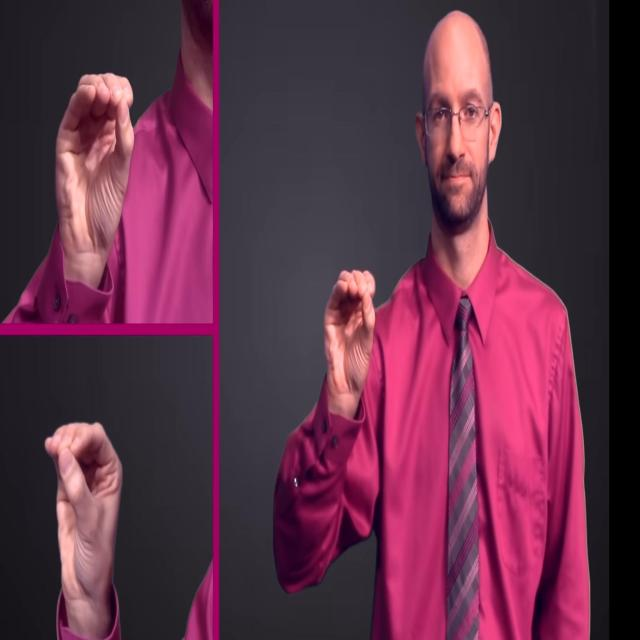O: (53, 71, 138, 251), (42, 418, 126, 599), (318, 267, 378, 396)
